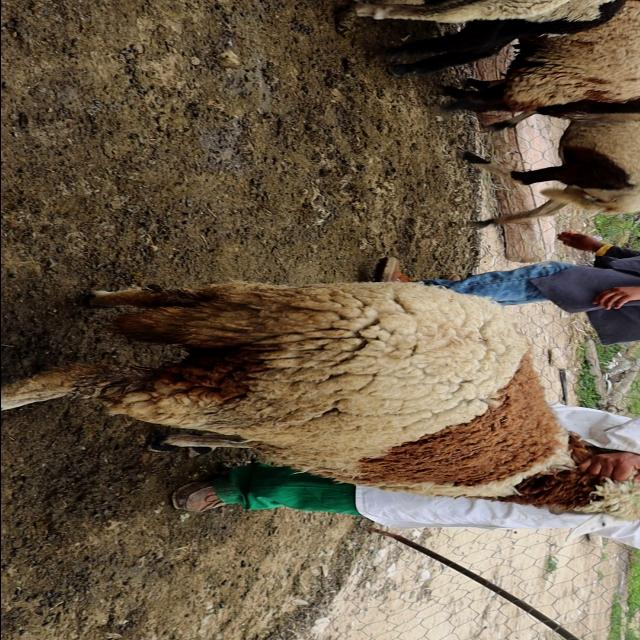Score_5: (1, 282, 640, 534)
